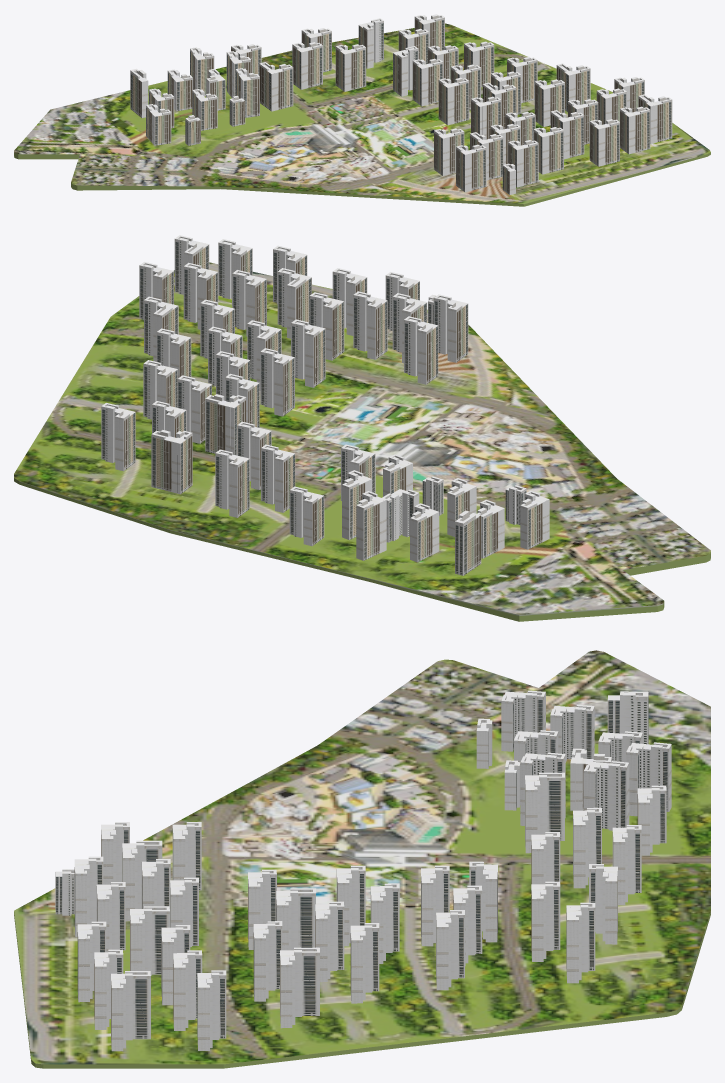
The model's file is ICJ00103.glb.
3 renders of one model, top to bottom at view 1: azimuth 30°, elevation 25°; view 2: azimuth 150°, elevation 25°; view 3: azimuth 270°, elevation 25°, orthographic. The views are drawn at different scales.
Visible parts, largest first — view 1: MainBuilding; view 2: MainBuilding; view 3: MainBuilding.
Boxes of the visible parts, box(x1,y1,x2,y2) form: MainBuilding: box(14, 14, 710, 206); MainBuilding: box(14, 235, 710, 621); MainBuilding: box(14, 650, 710, 1068).
Size of the model in its own units: 10637 by 878 by 7567.
1 material, 1 textured.
